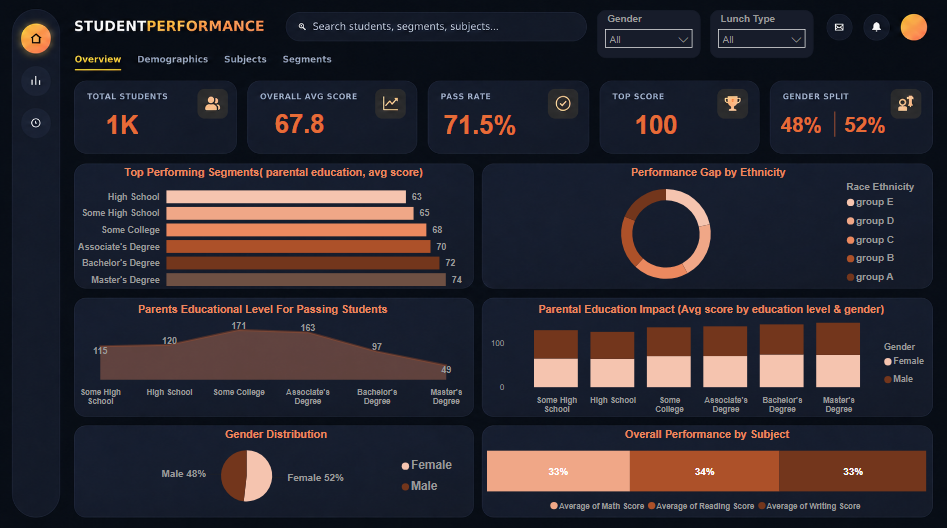

Layout of this report page (visuals, bound fields, positions):
{"tool":"powerbi","page":{"name":"Students Performance Dashboard","canvas":[1280,720],"ordinal":0},"visuals":[{"type":"donutChart","title":"Performance Gap by Ethnicity","fields":{"Category":["Dim_Ethnicity.RaceEthnicity"],"Y":["DAX.Overall Avg Score"]},"box":[651.2,227.5,611.2,172.5],"z":0},{"type":"hundredPercentStackedBarChart","title":"Overall Performance by Subject","fields":{"Y":["Avg(Fact_StudentPerformance.MathScore)","Avg(Fact_StudentPerformance.ReadingScore)","Avg(Fact_StudentPerformance.WritingScore)"]},"box":[657.5,580.8,599.2,125],"z":1000},{"type":"columnChart","title":" Parental Education Impact (Avg score by education level & gender)","fields":{"Series":["Dim_Gender.Gender"],"Y":["DAX.Overall Avg Score"],"Category":["Dim_ParentalEducation.ParentalEducationLevel"]},"box":[658.1,412.2,605.4,156.8],"z":2000},{"type":"areaChart","title":"Parents Educational Level  For Passing Students","fields":{"Category":["Dim_ParentalEducation.ParentalEducationLevel"],"Y":["DAX.Passing Students"]},"box":[58.3,411.7,593.3,146.7],"z":3000},{"type":"clusteredBarChart","title":"Top Performing Segments( parental education, avg score)","fields":{"Category":["Dim_ParentalEducation.ParentalEducationLevel"],"Y":["DAX.Overall Avg Score"]},"box":[98.3,226.7,541.7,176.7],"z":4000},{"type":"cardVisual","fields":{"Data":["DAX.Total Students"]},"box":[113.8,133.9,125.3,74.9],"z":5000},{"type":"cardVisual","fields":{"Data":["DAX.Pass Rate"]},"box":[570.2,122.4,161.3,96.5],"z":6000},{"type":"cardVisual","fields":{"Data":["DAX.Top Score"]},"box":[828,128.2,119.5,86.4],"z":7000},{"type":"cardVisual","fields":{"Data":["DAX.Male %","DAX.Female %"]},"box":[1026.2,136.2,206.2,68.8],"z":8000},{"type":"cardVisual","fields":{"Data":["DAX.Overall Avg Score"]},"box":[341.3,126.7,135.4,87.8],"z":9000},{"type":"pieChart","title":"Gender Distribution","fields":{"Y":["DAX.Female %","DAX.Male %"]},"box":[120.8,580.8,505,113.3],"z":10000},{"type":"slicer","fields":{"Values":["Dim_Gender.Gender"]},"box":[807.1,15.7,140,65],"z":11000},{"type":"slicer","fields":{"Values":["Dim_Lunch.LunchType"]},"box":[960,15.7,140,65],"z":12000}]}

Visuals, with their boxes on the page's 1280x720 design canvas (x1, y1, x2, y2). These are canvas units, not pixel positions in the 947x528 screenshot, which may show the page scaled, cropped or inside an application window:
"Performance Gap by Ethnicity" donutChart: <bbox>651, 228, 1262, 400</bbox>
"Overall Performance by Subject" hundredPercentStackedBarChart: <bbox>658, 581, 1257, 706</bbox>
" Parental Education Impact (Avg score by education level & gender)" columnChart: <bbox>658, 412, 1264, 569</bbox>
"Parents Educational Level  For Passing Students" areaChart: <bbox>58, 412, 652, 558</bbox>
"Top Performing Segments( parental education, avg score)" clusteredBarChart: <bbox>98, 227, 640, 403</bbox>
cardVisual - DAX.Total Students: <bbox>114, 134, 239, 209</bbox>
cardVisual - DAX.Pass Rate: <bbox>570, 122, 732, 219</bbox>
cardVisual - DAX.Top Score: <bbox>828, 128, 948, 215</bbox>
cardVisual - DAX.Male % x DAX.Female %: <bbox>1026, 136, 1232, 205</bbox>
cardVisual - DAX.Overall Avg Score: <bbox>341, 127, 477, 214</bbox>
"Gender Distribution" pieChart: <bbox>121, 581, 626, 694</bbox>
slicer - Dim_Gender.Gender: <bbox>807, 16, 947, 81</bbox>
slicer - Dim_Lunch.LunchType: <bbox>960, 16, 1100, 81</bbox>
